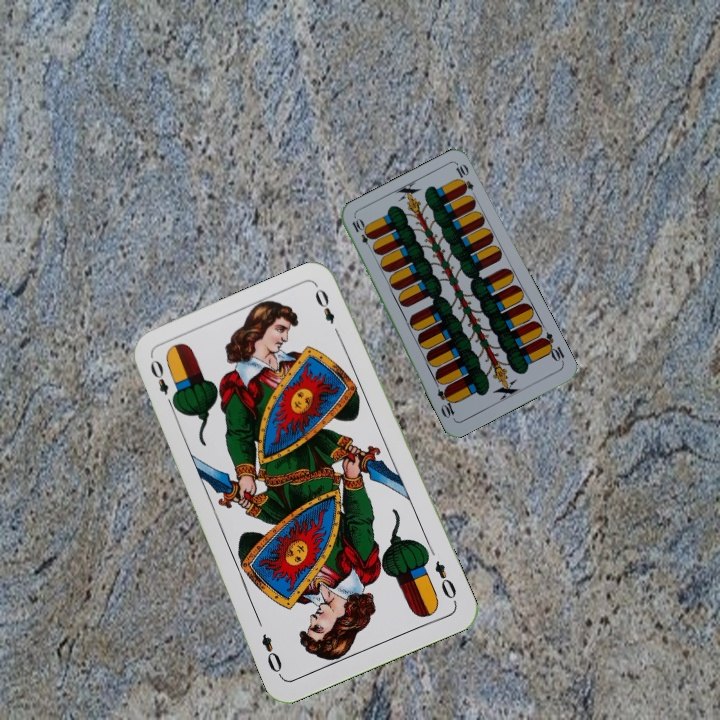E10: (537, 328, 567, 366), (348, 215, 376, 253)
EO: (146, 355, 178, 411), (430, 556, 459, 602)
